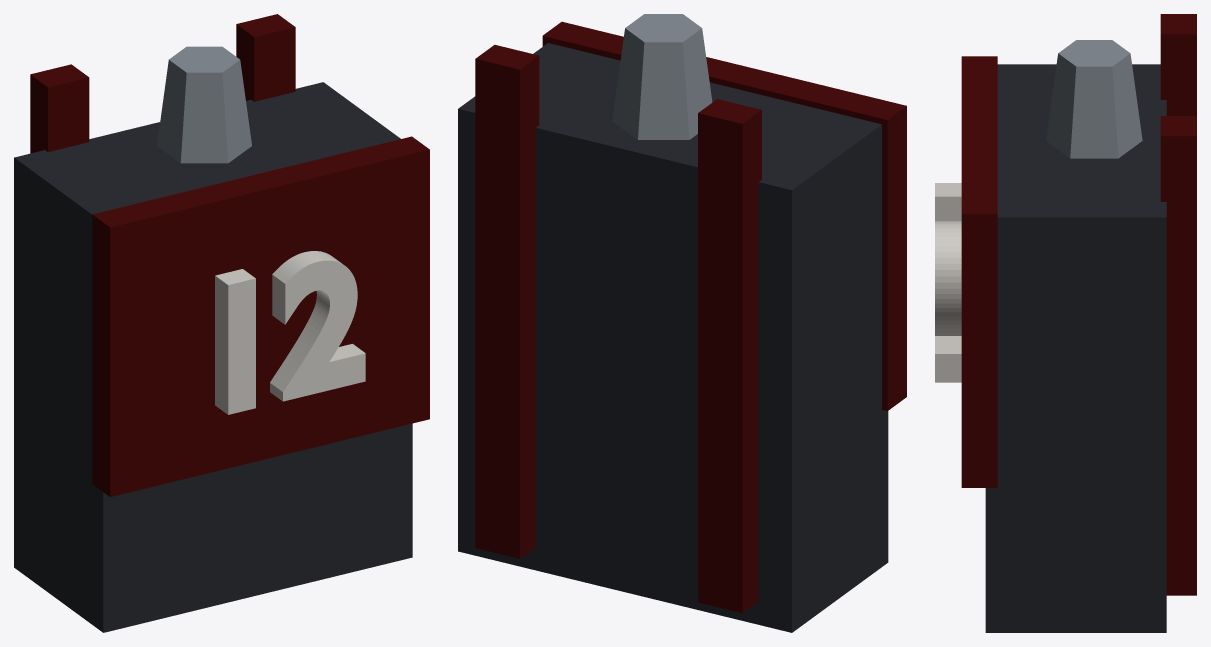
File: Runner_Pack.glb
3 renders of one model, left to right at view 1: azimuth 30°, elevation 25°; view 2: azimuth 150°, elevation 25°; view 3: azimuth 270°, elevation 25°, orthographic. The views are drawn at different scales.
Parts seen in each view (by area): view 1: Runner_Pack; view 2: Runner_Pack; view 3: Runner_Pack.
Boxes of the visible parts, x1,y1,x2,y2 form: Runner_Pack: [14, 14, 429, 632]; Runner_Pack: [458, 14, 906, 632]; Runner_Pack: [935, 14, 1196, 632].
Bounding box in the file's own units: 0.31 × 0.46 × 0.217.
